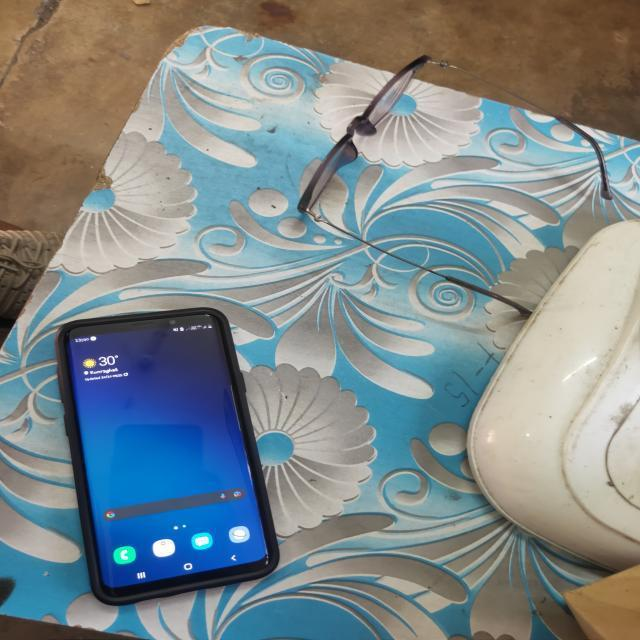Phone: (52, 306, 284, 607)
